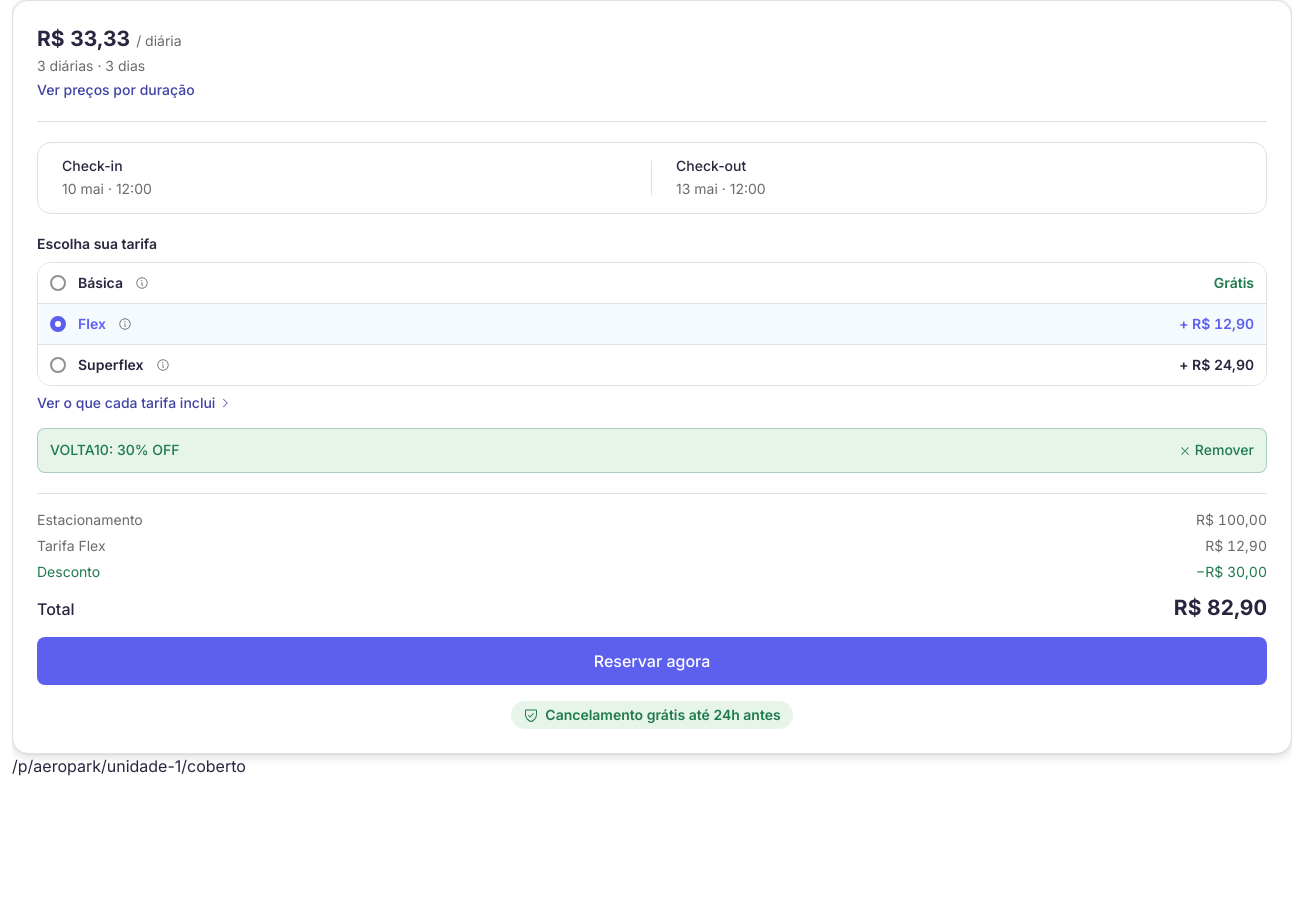
ReservationCard — quem não é cliente vai pro login, não pro toast › operador logado: vai pro login com trocar=1, em vez de ficar sem saída
This screenshot has width=1292, height=900.
Click the button "Reservar agora" at [652, 661], box 37,637 -> 1267,685
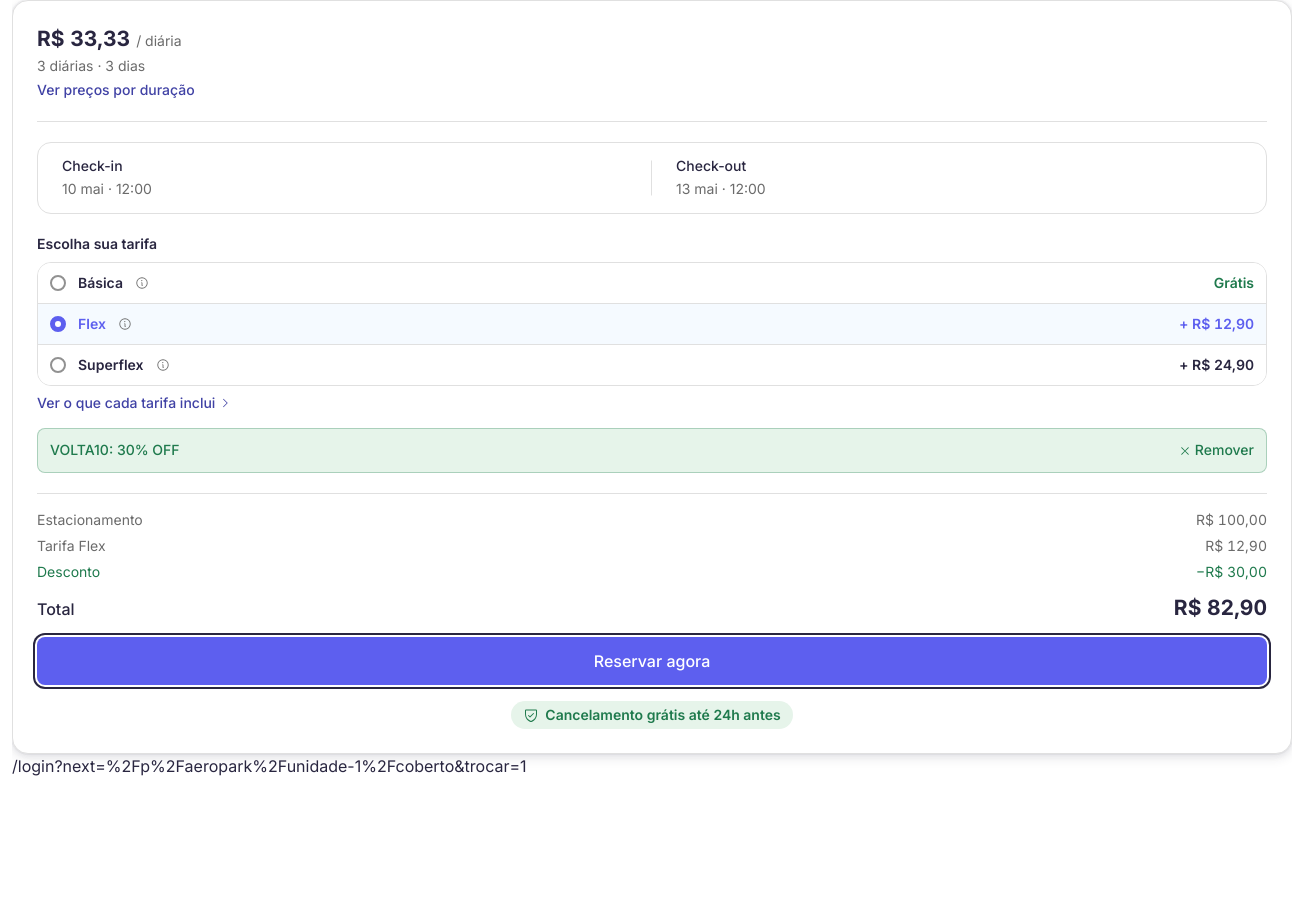
Check: the text with test id "loc" shows "trocar=1", box 12,756 -> 527,776
